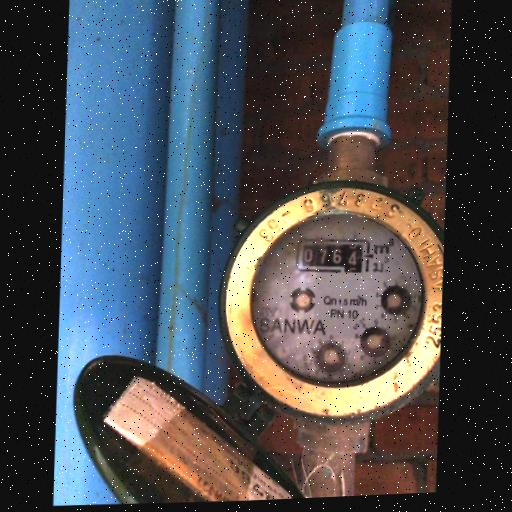0: (301, 244, 317, 266)
4: (344, 244, 361, 273)
6: (329, 244, 345, 267)
7: (315, 244, 331, 267)
border_water_meter_number: (295, 235, 375, 276)
